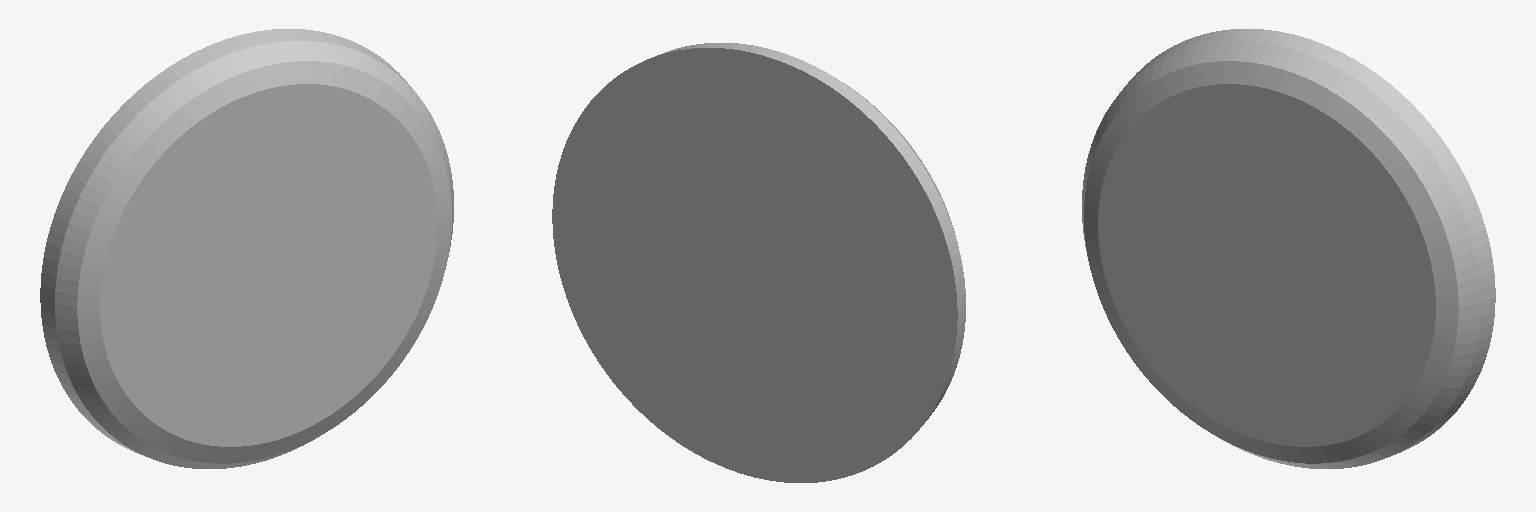
File: spar_middle_top.obj
3 renders of one model, left to right at view 1: azimuth 30°, elevation 25°; view 2: azimuth 150°, elevation 25°; view 3: azimuth 330°, elevation 25°, orthographic.
Visible parts, largest first — view 1: Circle.006_Circle.025; view 2: Circle.006_Circle.025; view 3: Circle.006_Circle.025.
Part boxes in pixels (x1,y1,x2,y2): Circle.006_Circle.025: (40,29,453,468); Circle.006_Circle.025: (552,43,965,482); Circle.006_Circle.025: (1082,29,1495,468).
Bounding box in the file's own units: 9 × 9 × 1.